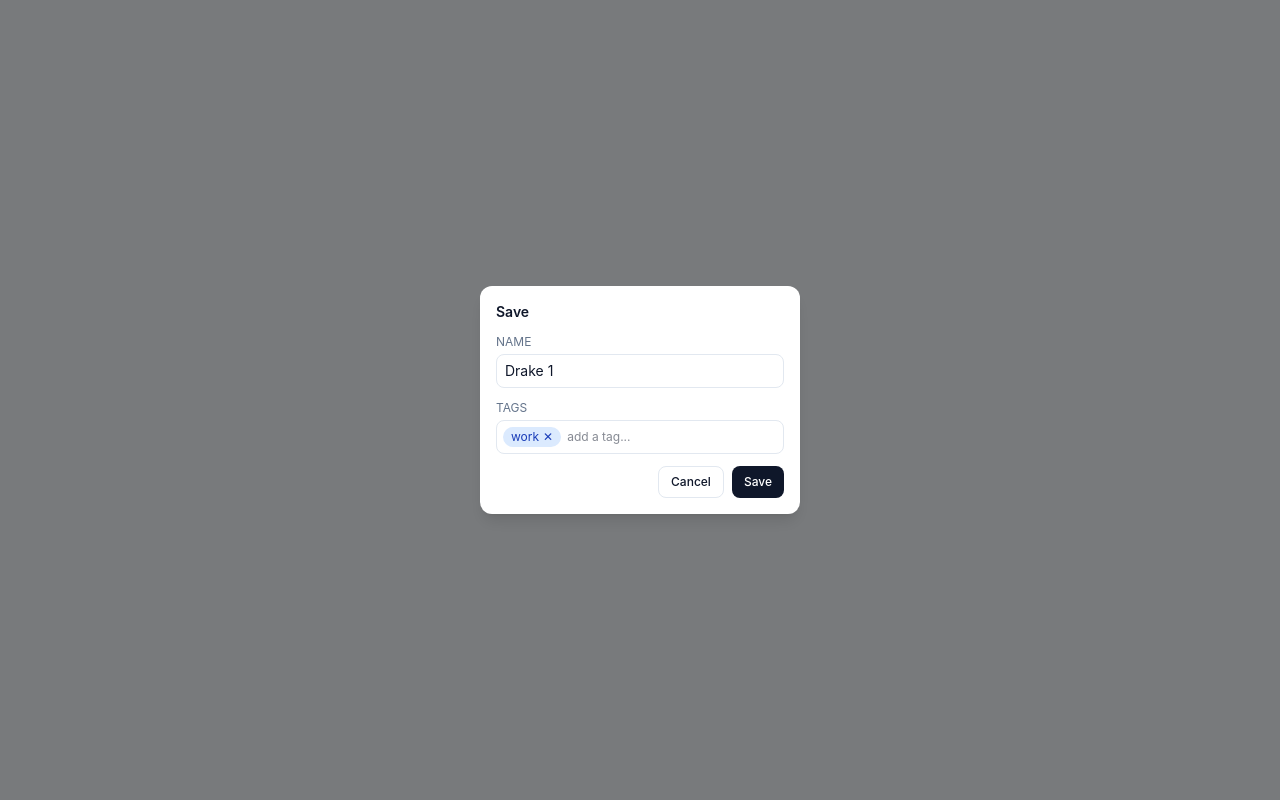
Test: SaveDialog › does not steal the click from a chip's own remove button
Click the button named "Remove work" at (548, 437), box [543, 429, 553, 445]
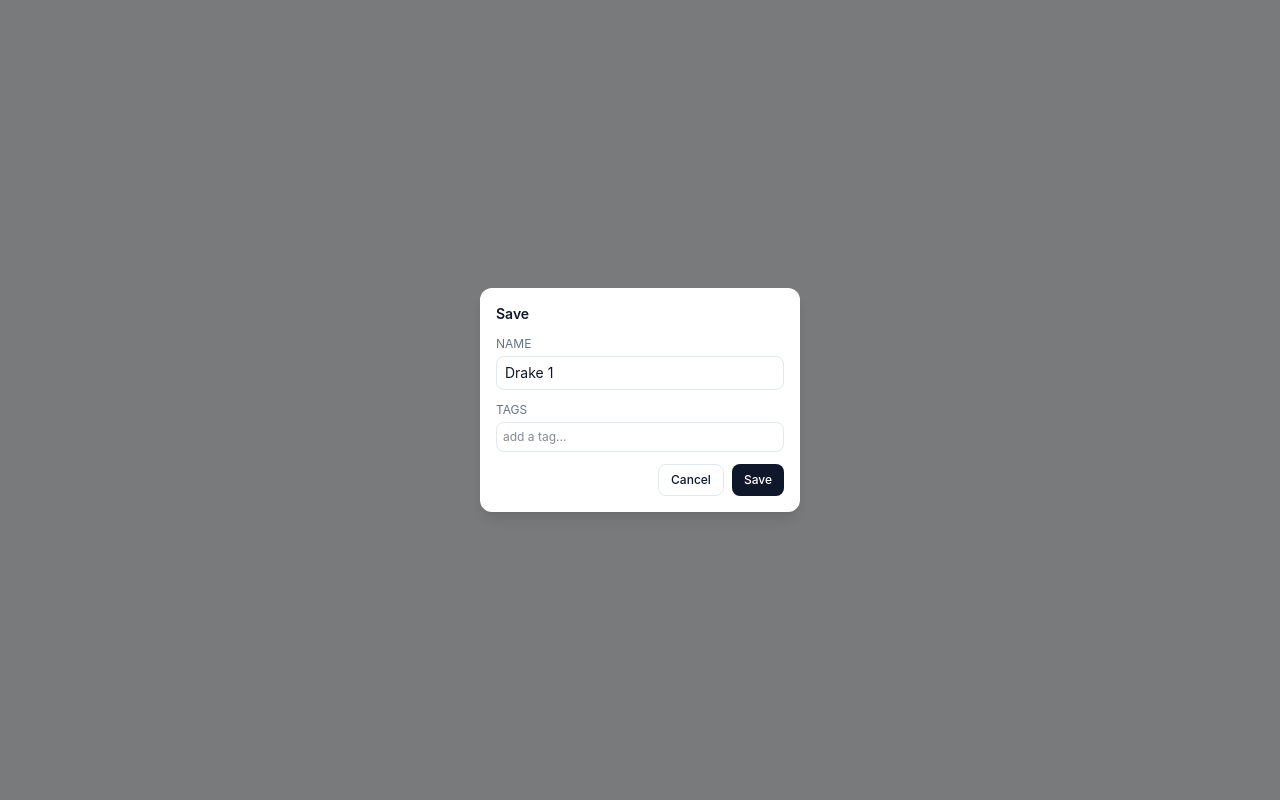
Check: the text "work" is gone
